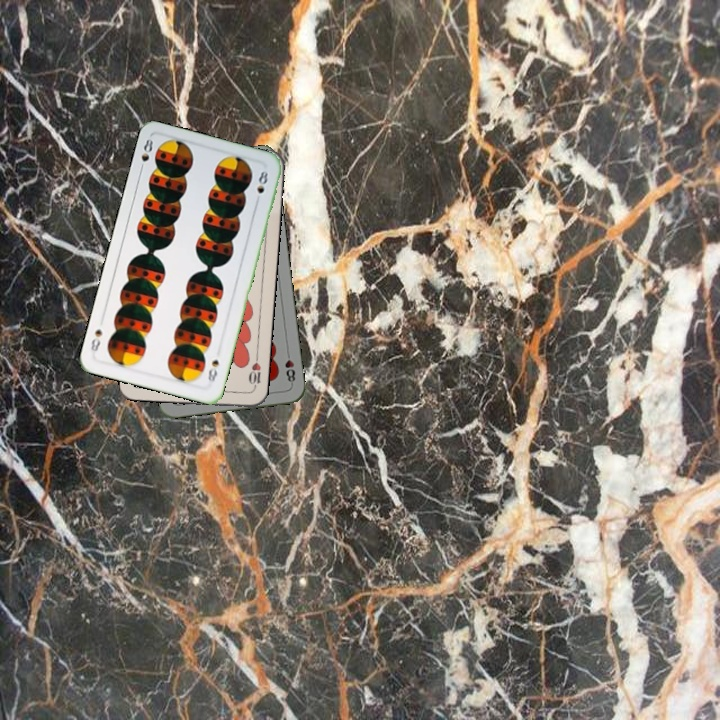H10: (244, 352, 264, 393)
H8: (281, 347, 298, 387)
S8: (136, 135, 156, 175), (204, 356, 222, 385)
